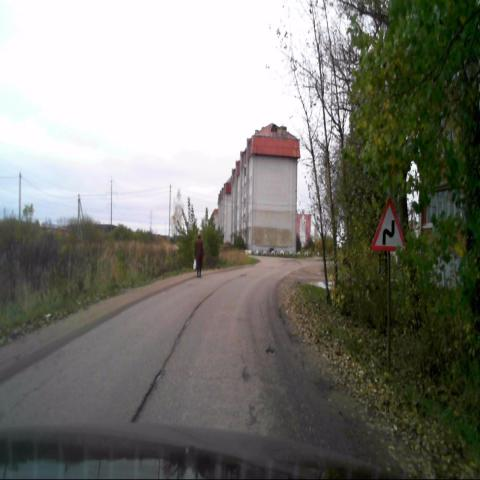1_12: (372, 197, 406, 252)
